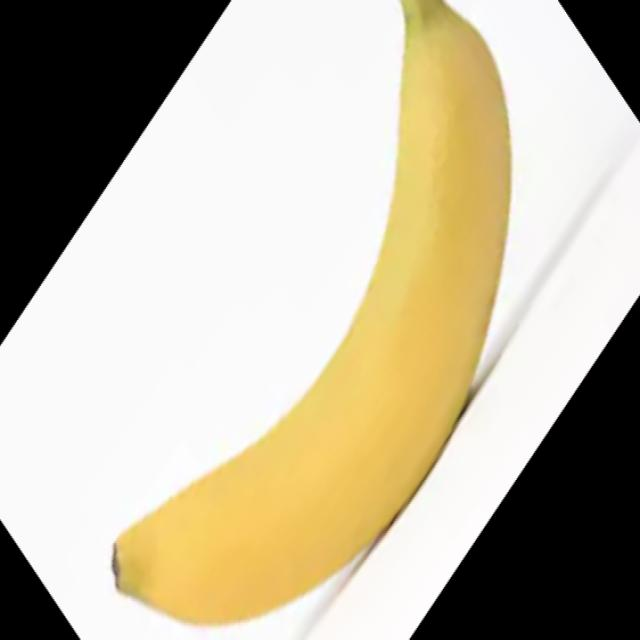god quality banana: (113, 0, 511, 624)
